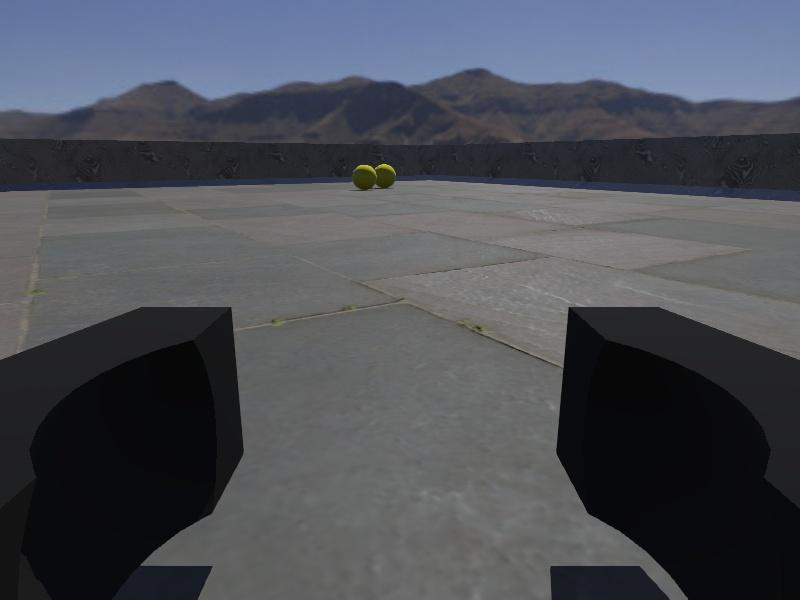yellow ball: (352, 165, 376, 191)
